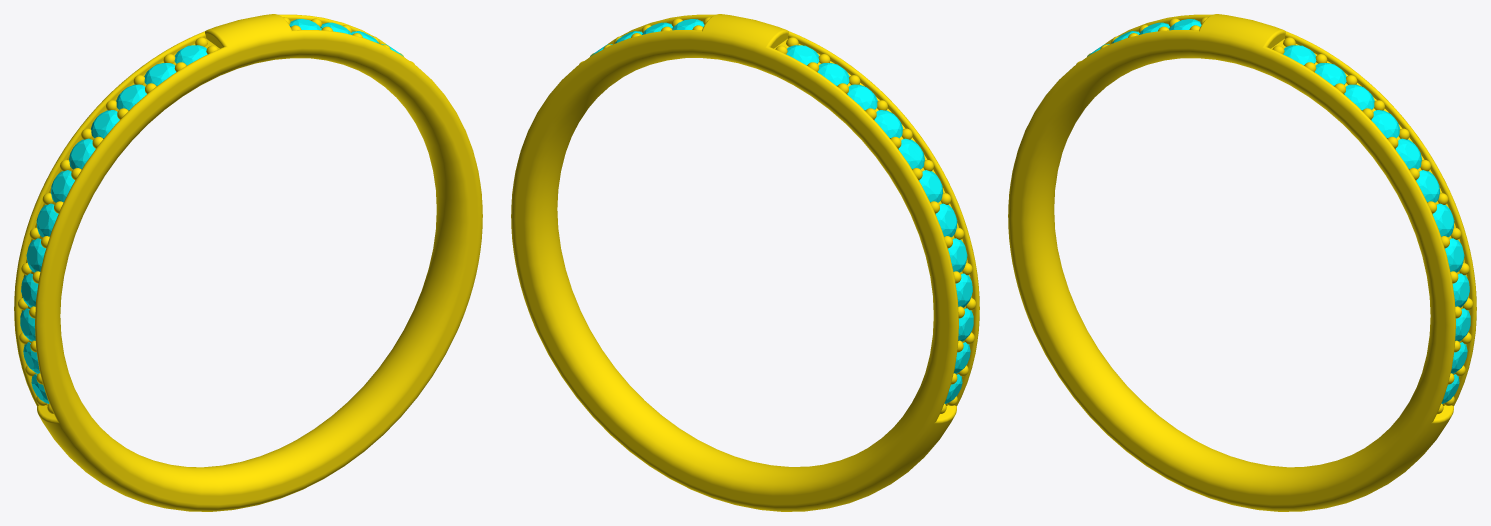
The model's file is PAVE-STONES.glb.
3 renders of one model, left to right at view 1: azimuth 30°, elevation 25°; view 2: azimuth 150°, elevation 25°; view 3: azimuth 330°, elevation 25°, orthographic.
Visible parts, largest first — view 1: metal_merged, SH-Pave-13dm; view 2: metal_merged, SH-Pave-13dm; view 3: metal_merged, SH-Pave-13dm.
Boxes of the visible parts, x1,y1,x2,y2 form: metal_merged: [14, 14, 482, 511]; SH-Pave-13dm: [20, 19, 403, 403]; metal_merged: [511, 14, 979, 511]; SH-Pave-13dm: [590, 19, 973, 403]; metal_merged: [1008, 14, 1476, 511]; SH-Pave-13dm: [1087, 19, 1470, 403].
Size of the model in its own units: 15.65 by 16.04 by 1.59.
